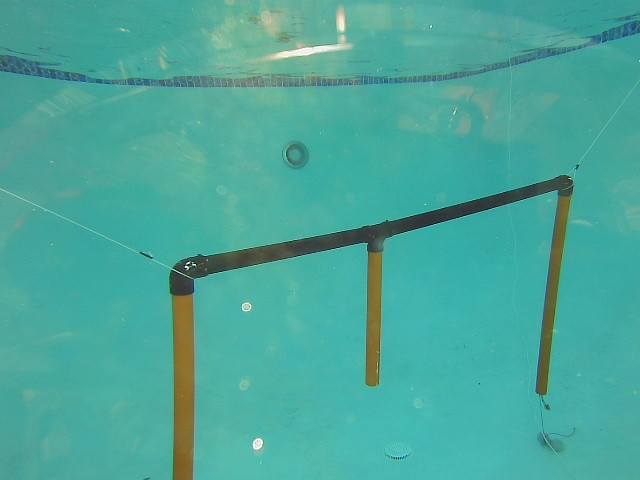Gate: (526, 190, 571, 400), (168, 287, 201, 480), (358, 243, 388, 389)
